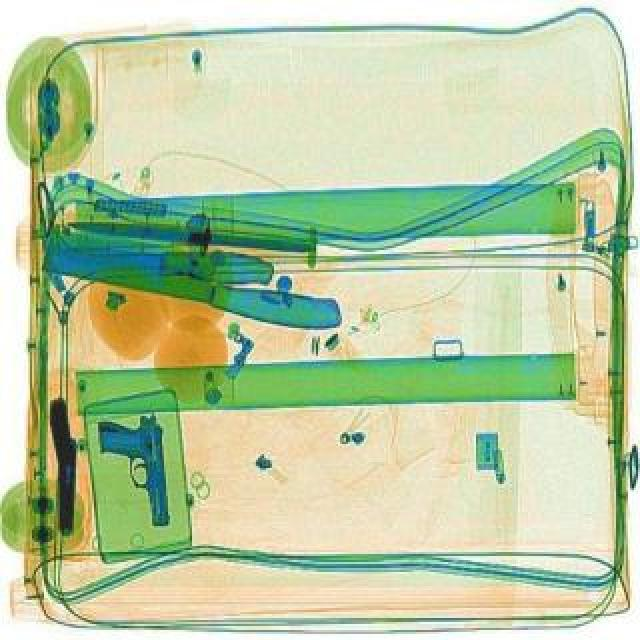gun: (96, 410, 172, 530), (46, 396, 82, 536)
knife: (36, 220, 348, 336), (58, 212, 310, 254), (48, 242, 272, 284)
